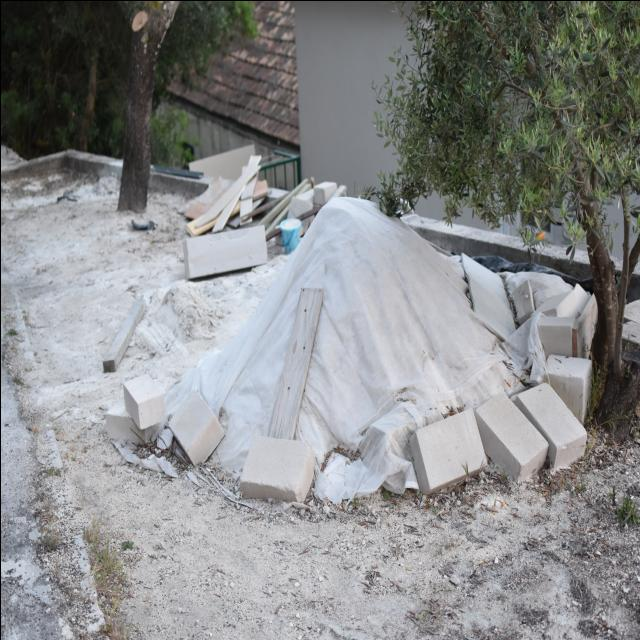entulho: (281, 175, 521, 468), (172, 146, 332, 288), (97, 360, 224, 477), (264, 282, 328, 440), (526, 354, 595, 461), (532, 279, 596, 357), (100, 298, 146, 372)
